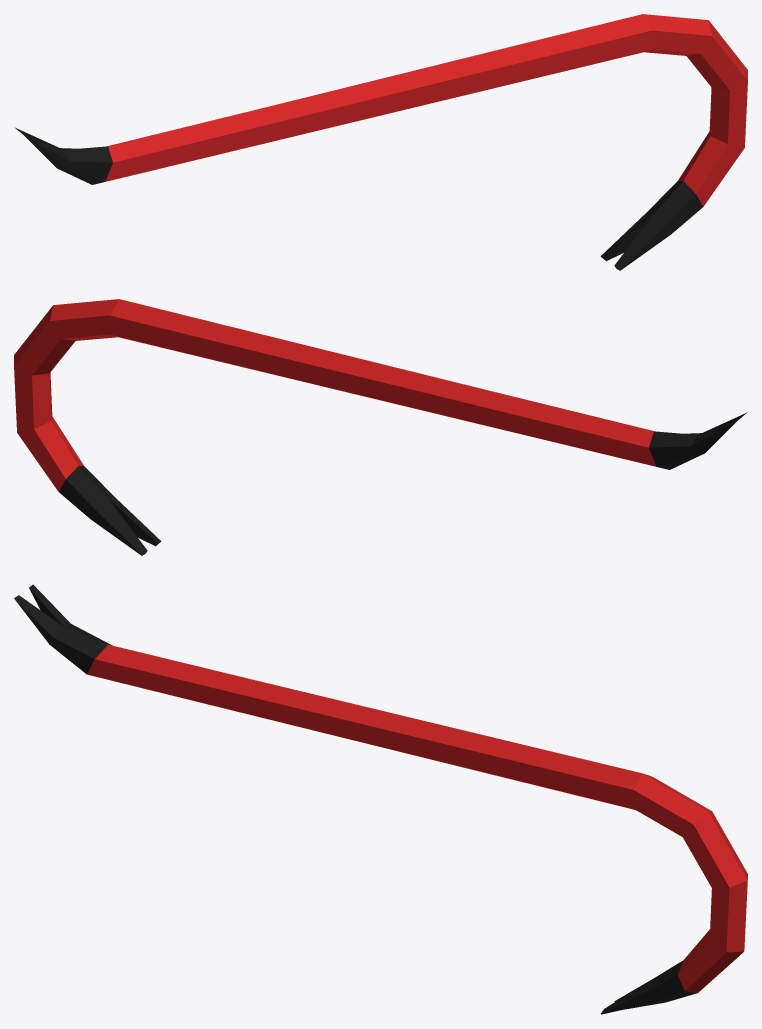
The model's file is crowbar.glb.
3 renders of one model, top to bottom at view 1: azimuth 30°, elevation 25°; view 2: azimuth 150°, elevation 25°; view 3: azimuth 330°, elevation 25°, orthographic.
Parts seen in each view (by area): view 1: crowbar; view 2: crowbar; view 3: crowbar.
Boxes of the visible parts, x1=… form: crowbar: x1=15, y1=14, x2=747, y2=270; crowbar: x1=14, y1=299, x2=746, y2=555; crowbar: x1=14, y1=584, x2=747, y2=1014.
Size of the model in its own units: 0.6684 by 0.2419 by 0.0306.
1 material, 1 textured.
